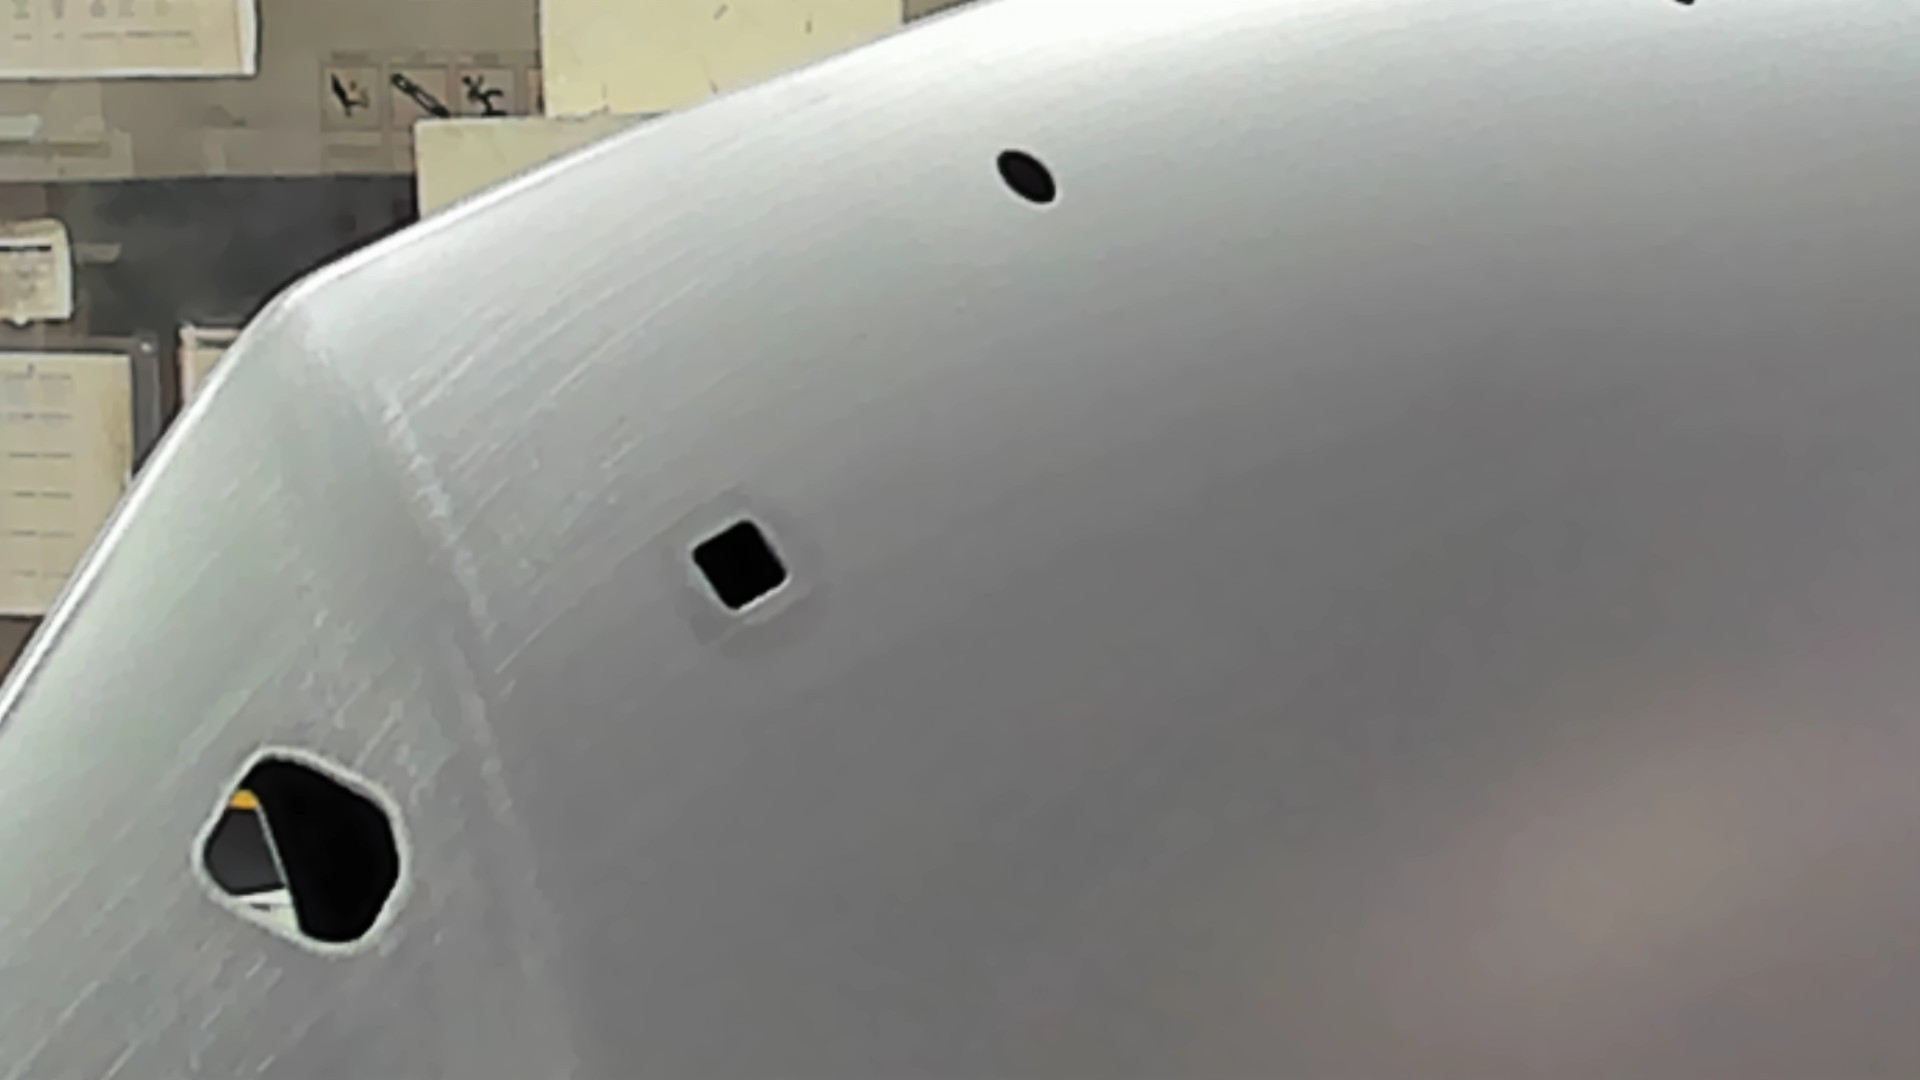chico: (992, 146, 1064, 210)
grande: (187, 745, 406, 960)
mediano: (680, 509, 795, 620)
